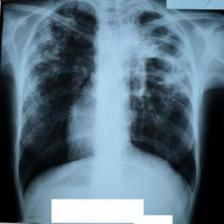tuberculosis: (17, 1, 200, 204)
